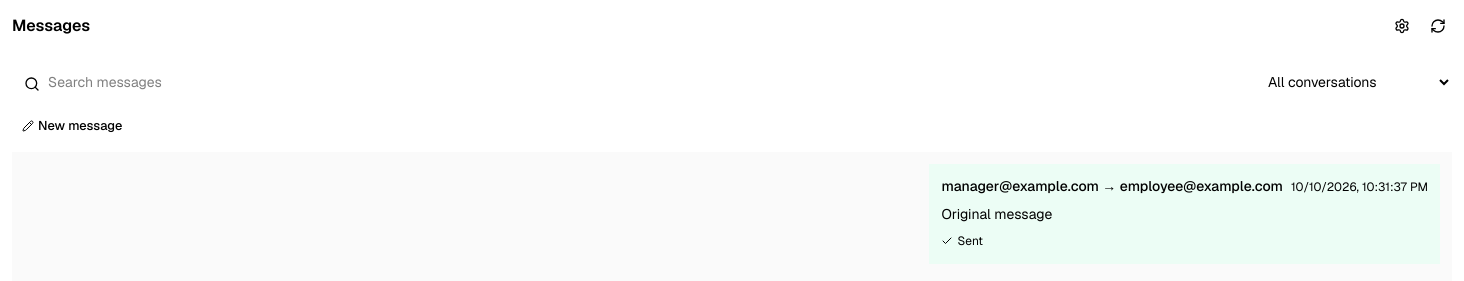
filters message text and announcements without exposing mismatched conversations
Type "not present" into the field labelled "Search messages" at (630, 82), box [12,64,1248,100]
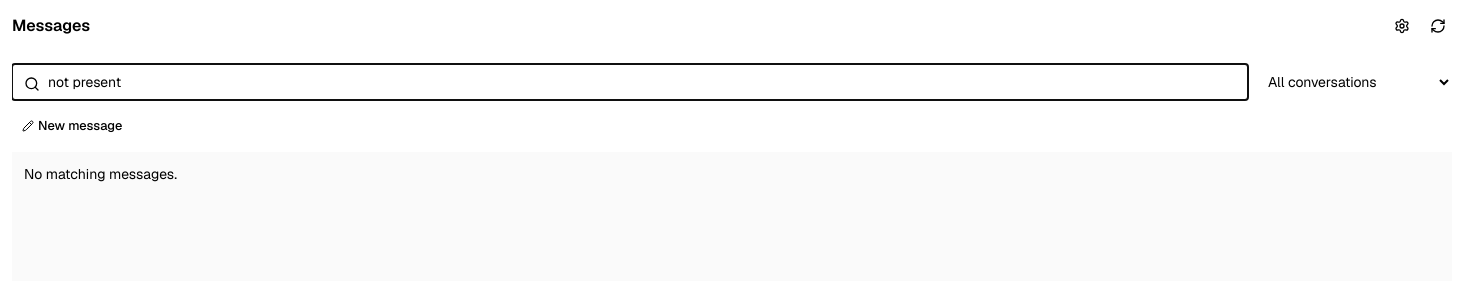
Check: the text "No matching messages." is shown, box [24,165,177,183]
Clear the field named "Search messages" at (630, 82), box [12,64,1248,100]
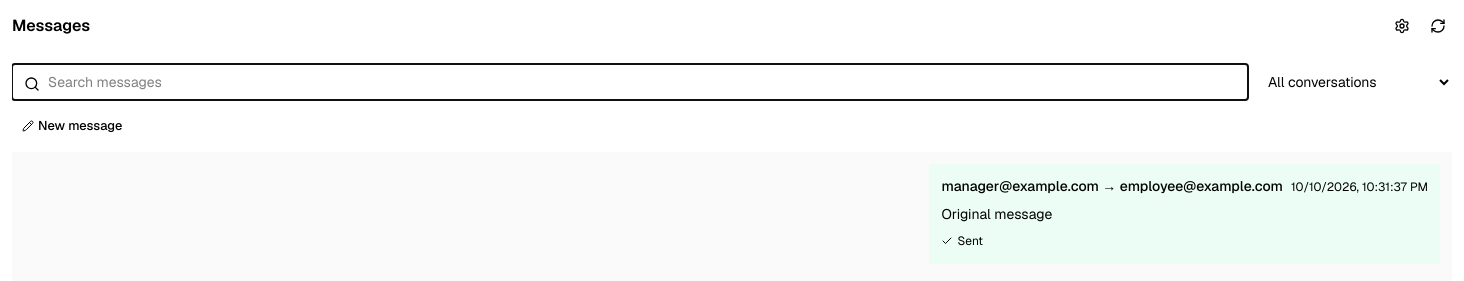
Check: the text "Original message" is shown, box [941,205,1052,223]
Select "Announcements" in the dropdown named "Conversation" at (1354, 82), box [1256,64,1452,100]
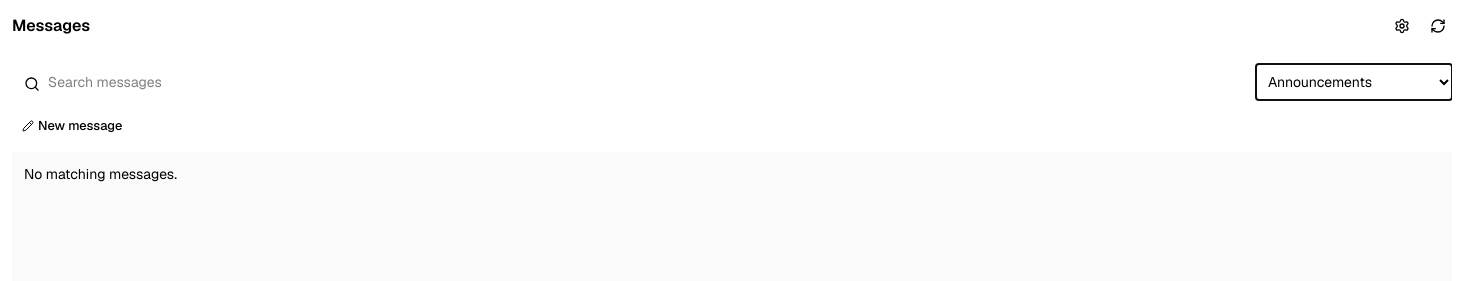
Check: the button "Original message" is gone
